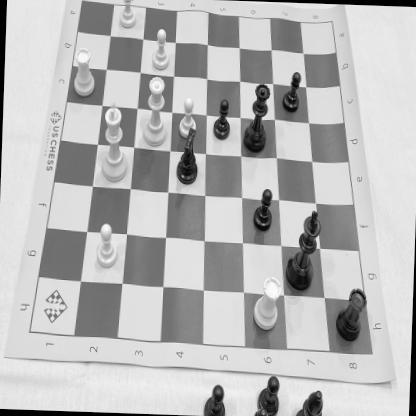king: (284, 205, 323, 298), (92, 100, 134, 184)
knight: (171, 128, 202, 187)
pawn: (90, 220, 119, 270), (209, 94, 235, 143), (250, 187, 275, 234), (280, 68, 304, 115), (176, 92, 200, 139), (148, 26, 172, 71), (116, 0, 141, 33)
queen: (140, 76, 172, 148), (243, 80, 271, 154)
rook: (332, 282, 369, 349), (250, 272, 284, 332), (67, 43, 98, 98)
